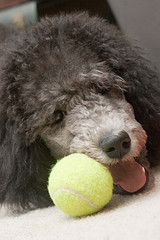tennis ball: (47, 152, 116, 217)
